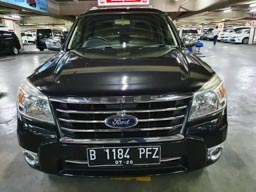plat: (87, 148, 160, 159)
